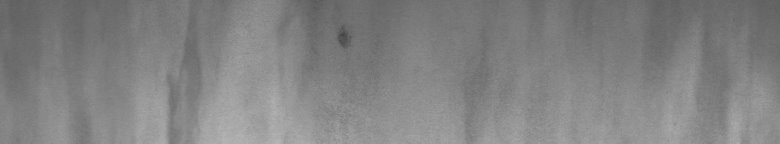fi: (335, 28, 353, 52)
